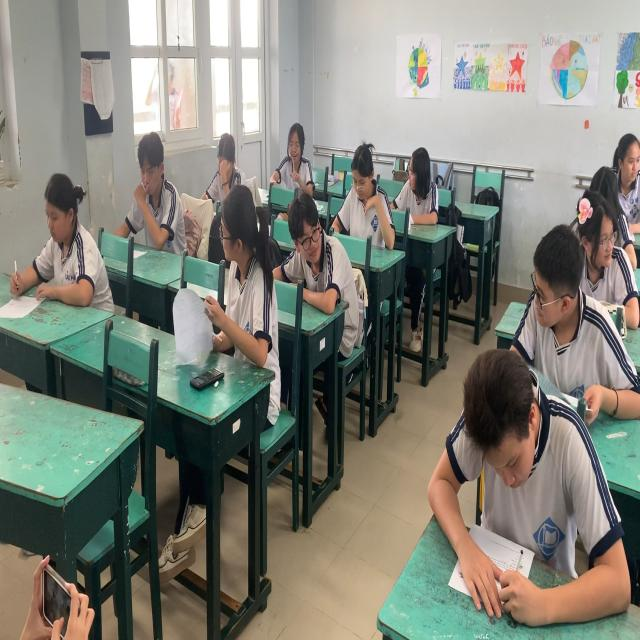cheating: (500, 181, 600, 381), (206, 159, 282, 404), (288, 163, 350, 341), (117, 112, 185, 260), (401, 134, 448, 231)
not_cheating: (414, 300, 598, 596), (0, 135, 96, 307), (532, 120, 622, 276), (580, 98, 640, 222), (336, 124, 386, 252), (276, 92, 328, 195), (198, 103, 243, 203)
